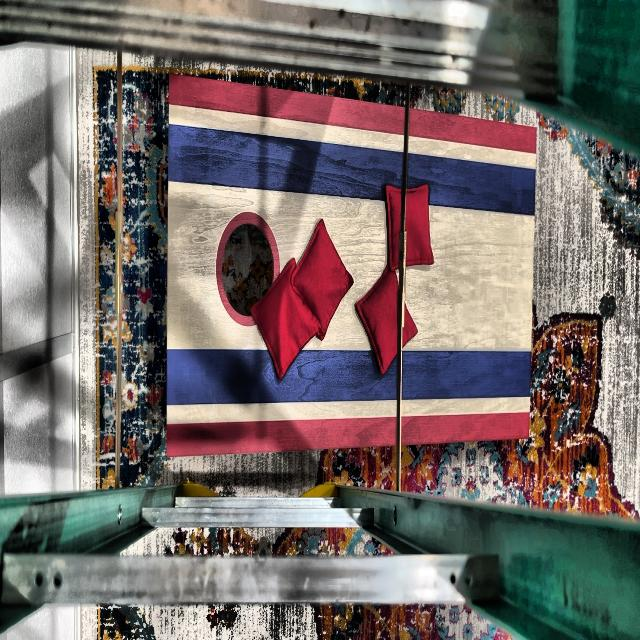board: (169, 131, 529, 438)
hole: (216, 211, 280, 325)
red-bean-bag: (251, 258, 321, 381), (291, 221, 354, 344), (354, 263, 419, 376), (388, 186, 433, 269)
